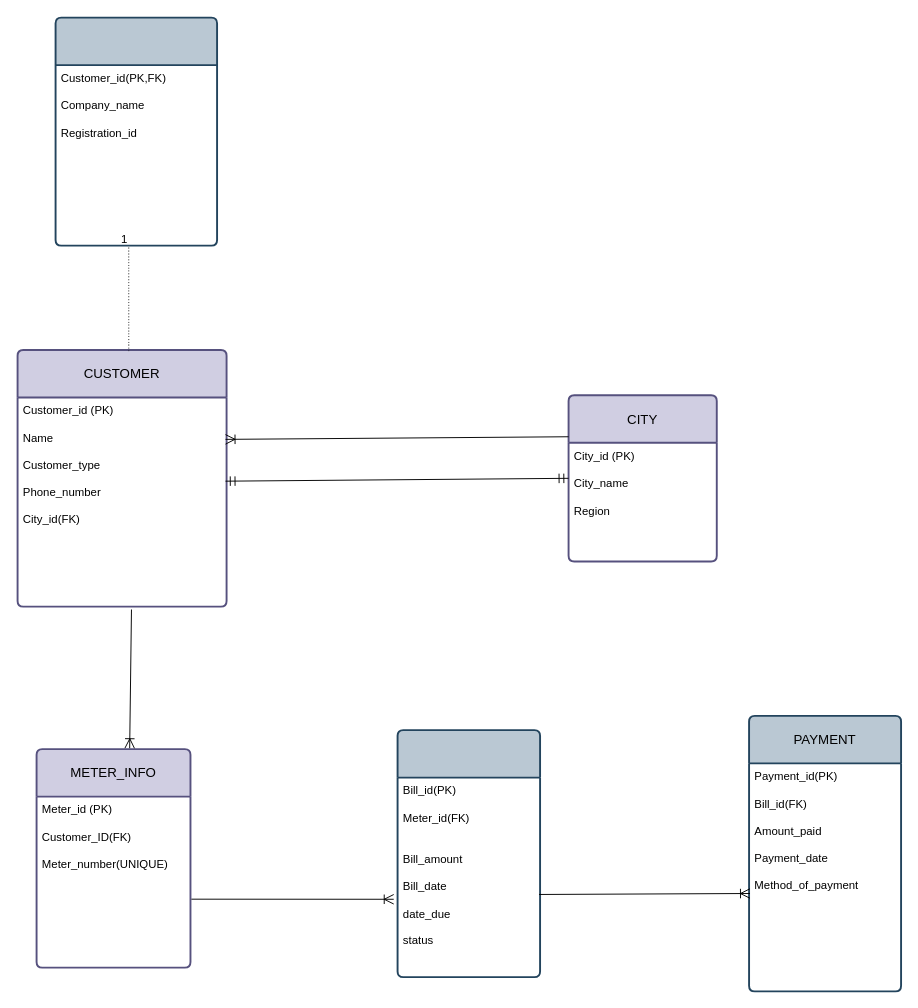
The diagram is 918 pixels wide and 1008 high, and some of its shapes have lost their labels. The shapes that lost their labels are listed below. From the top down, each one's box as (x1, y1, x2, y2) in pixels, then its label:
(54, 16, 218, 246): CC_DETAILS
(396, 729, 541, 978): BILL_INFO
